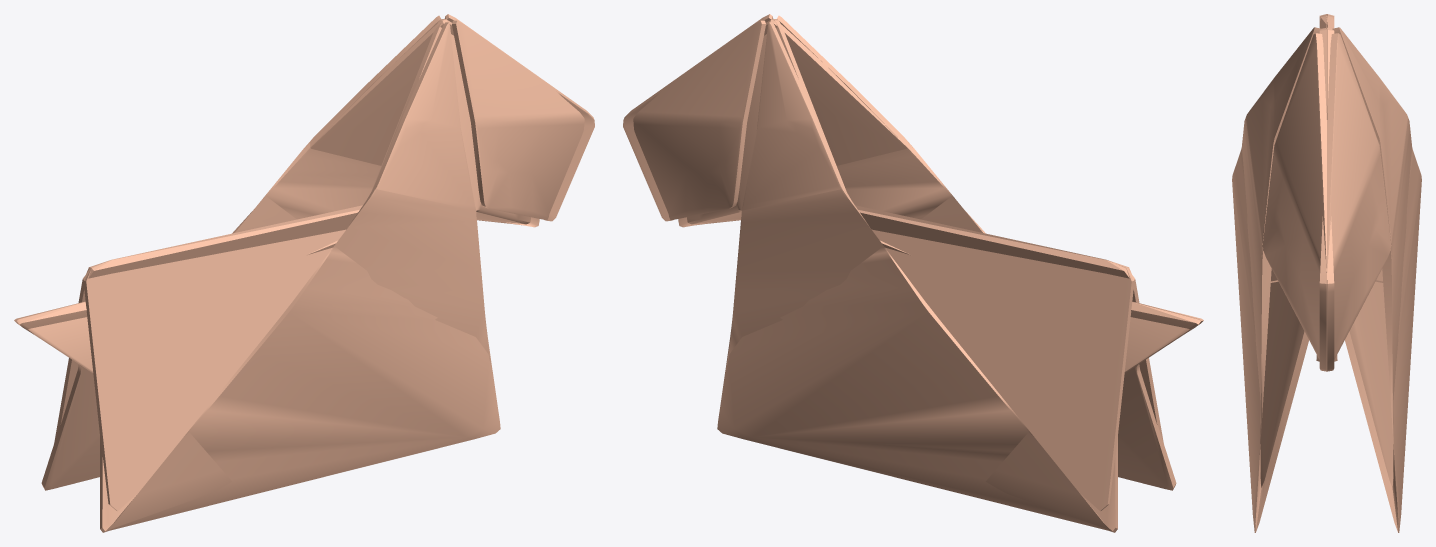
The model's file is dog.fbx.
3 renders of one model, left to right at view 1: azimuth 30°, elevation 25°; view 2: azimuth 150°, elevation 25°; view 3: azimuth 270°, elevation 25°, orthographic. The views are drawn at different scales.
Parts seen in each view (by area): view 1: Plane.001; view 2: Plane.001; view 3: Plane.001.
Boxes of the visible parts, box(x1,y1,x2,y2) form: Plane.001: box(14, 14, 594, 532); Plane.001: box(623, 14, 1203, 532); Plane.001: box(1232, 14, 1421, 532).
Bounding box in the file's own units: 400 × 267 × 92.28.
